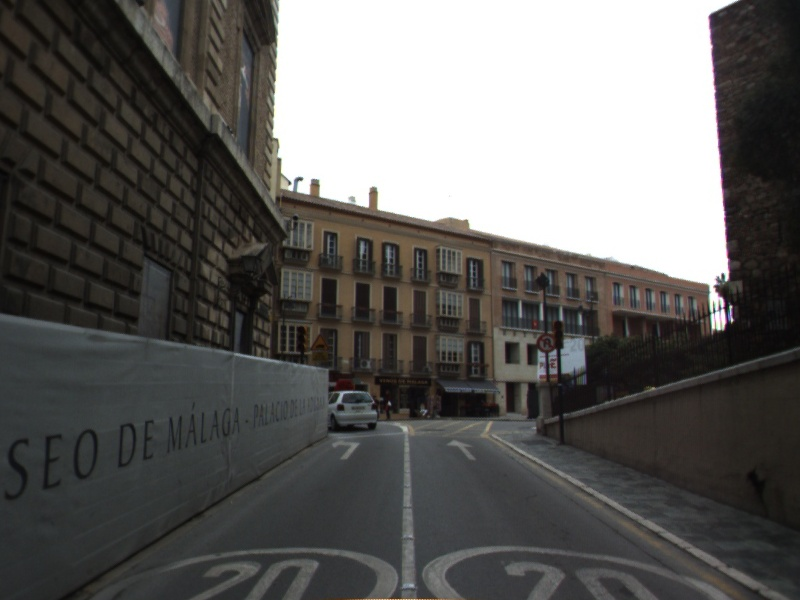LEFT: (330, 438, 362, 461)
STRAIGHT: (445, 437, 478, 461)
